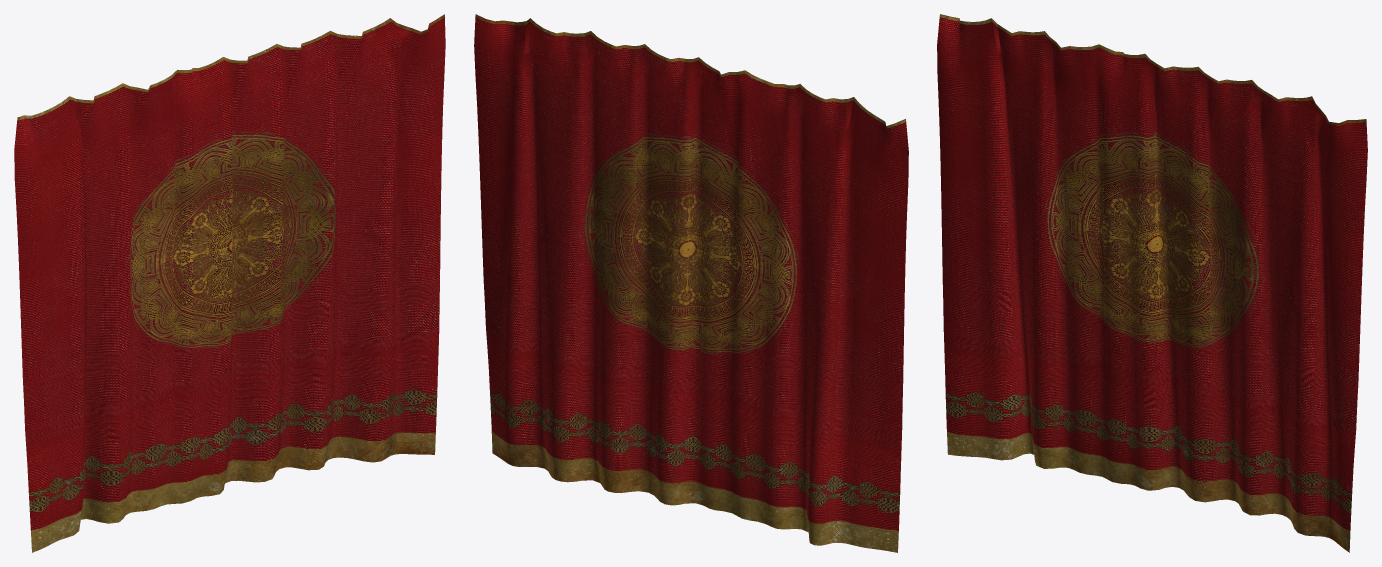
Rendered from sponza_321.gltf.
3 renders of one model, left to right at view 1: azimuth 30°, elevation 25°; view 2: azimuth 150°, elevation 25°; view 3: azimuth 330°, elevation 25°, orthographic.
Parts seen in each view (by area): view 1: sponza_321; view 2: sponza_321; view 3: sponza_321.
Boxes of the visible parts, <box> form: sponza_321: <box>14,14,445,552</box>; sponza_321: <box>474,14,908,552</box>; sponza_321: <box>937,14,1367,552</box>.
Size of the model in its own units: 287 by 284 by 25.31.
